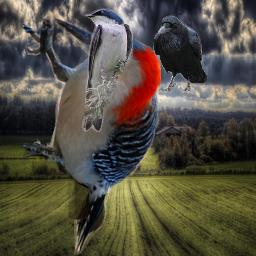Crow: (153, 15, 207, 93)
Swallow: (80, 8, 133, 132)
Woodpecker: (23, 18, 161, 255)
